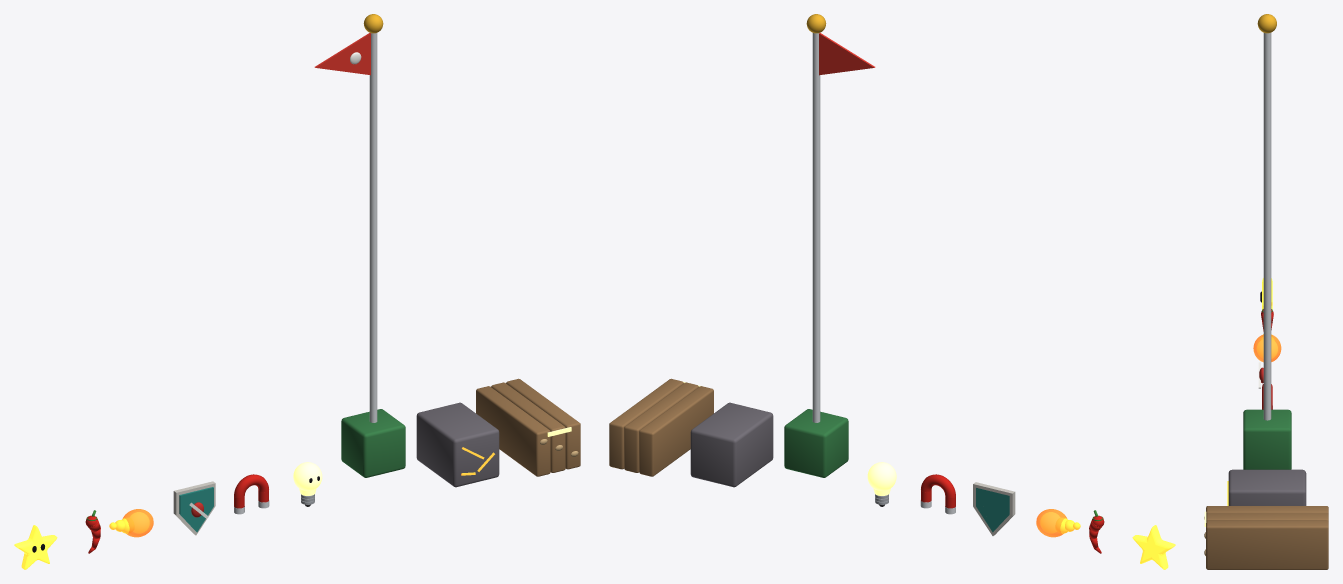
Rendered from items.glb.
3 renders of one model, left to right at view 1: azimuth 30°, elevation 25°; view 2: azimuth 150°, elevation 25°; view 3: azimuth 270°, elevation 25°, orthographic.
Visible parts, largest first — view 1: CrackBody, FlagBase, SoftSlab0, FlagPoleMast, SoftSlab2, SoftSlab1, FlagCloth, ShieldBody, StarBody; view 2: CrackBody, FlagBase, SoftSlab0, FlagPoleMast, SoftSlab2, SoftSlab1, FlagCloth, ShieldBody, StarBody; view 3: SoftSlab2, FlagPoleMast, CrackBody, FlagBase, SoftSlab0, SoftSlab1, FireShell, FlagTop, FireCore.
Boxes of the visible parts, box(x1,y1,x2,y2) form: CrackBody: box(416, 402, 499, 487); FlagBase: box(341, 409, 405, 477); SoftSlab0: box(476, 386, 550, 476); FlagPoleMast: box(369, 33, 377, 422); SoftSlab2: box(506, 378, 580, 469); SoftSlab1: box(491, 382, 565, 472); FlagCloth: box(314, 33, 370, 75); ShieldBody: box(179, 487, 213, 532); StarBody: box(14, 525, 57, 569); CrackBody: box(690, 402, 773, 487); FlagBase: box(784, 409, 848, 477); SoftSlab0: box(639, 386, 713, 476); FlagPoleMast: box(812, 33, 820, 422); SoftSlab2: box(609, 378, 683, 469); SoftSlab1: box(624, 382, 698, 472); FlagCloth: box(819, 33, 875, 75); ShieldBody: box(976, 488, 1009, 532); StarBody: box(1132, 525, 1175, 569); SoftSlab2: box(1206, 520, 1328, 569); FlagPoleMast: box(1263, 32, 1271, 420); CrackBody: box(1228, 469, 1306, 505); FlagBase: box(1243, 409, 1291, 469); SoftSlab0: box(1206, 506, 1328, 513); SoftSlab1: box(1206, 513, 1328, 521); FireShell: box(1253, 334, 1281, 362); FlagTop: box(1257, 14, 1276, 33); FireCore: box(1257, 339, 1277, 358).
Size of the model in its own units: 11.4 by 9.71 by 2.31.
